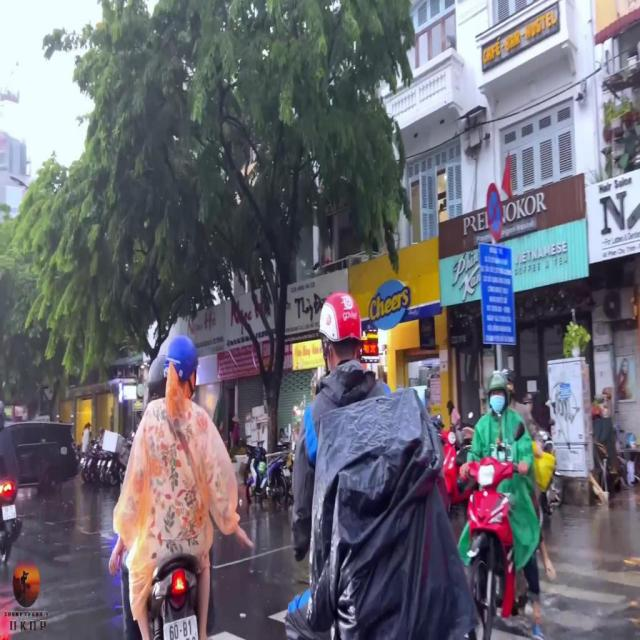cam_dung_xe_va_do_xe: (487, 184, 503, 239)
